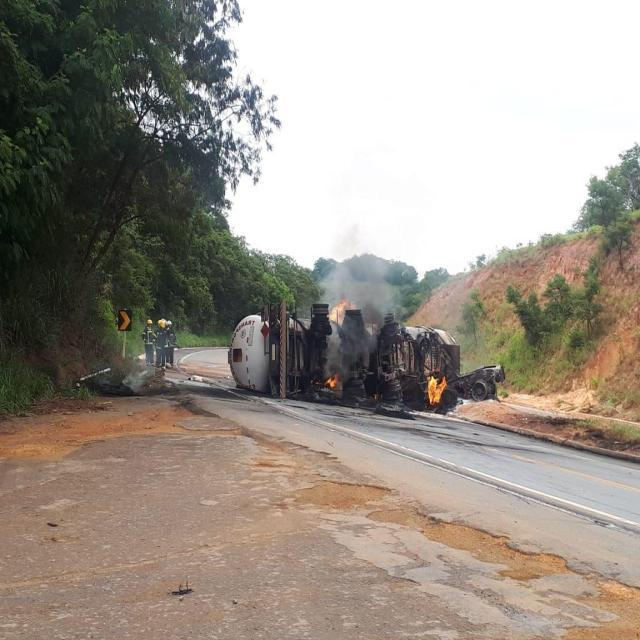Fire: (426, 374, 447, 406), (326, 376, 339, 387)
Smoke: (328, 248, 389, 370)
